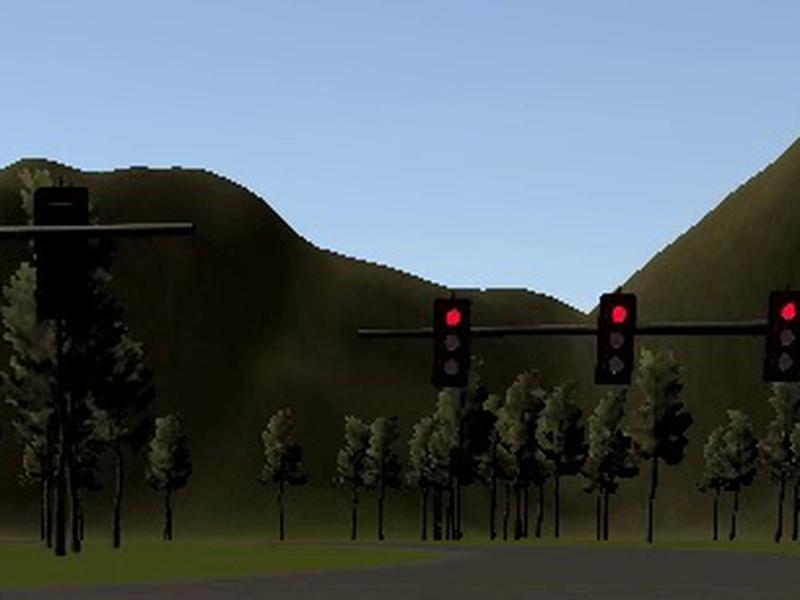Red: (595, 292, 639, 385), (432, 299, 472, 386), (762, 289, 799, 382)
